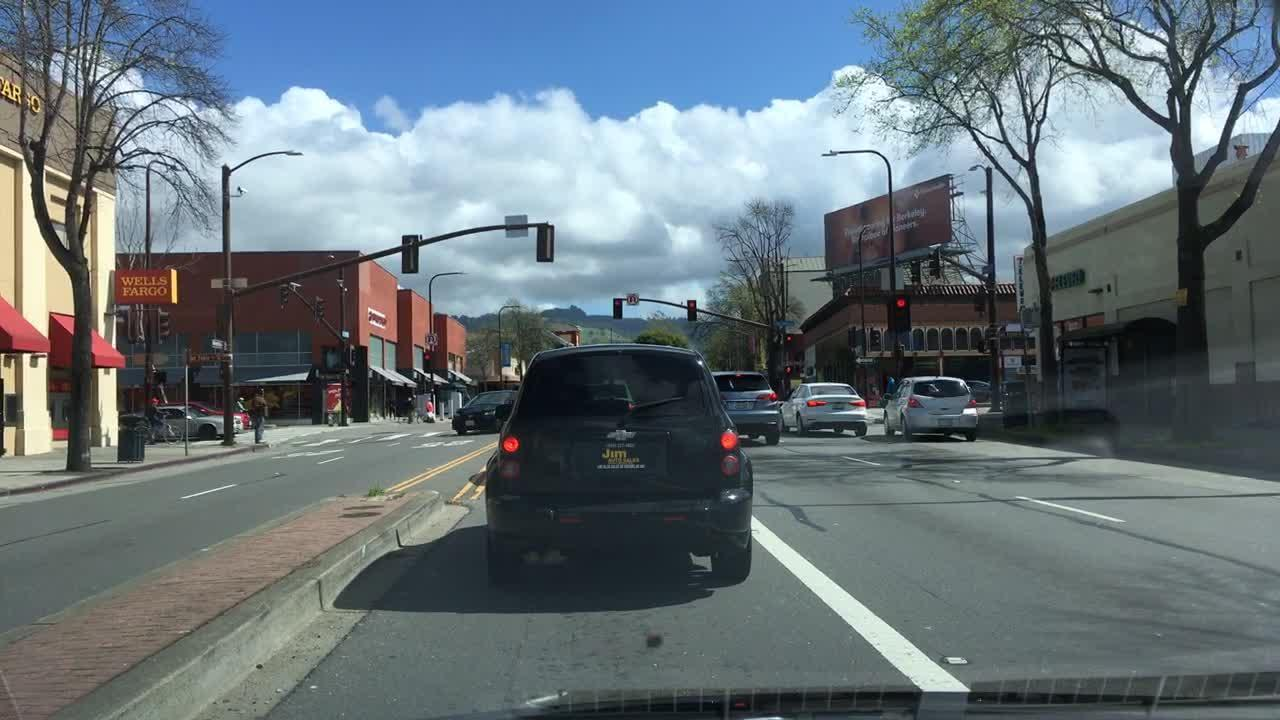chevrolet: (592, 418, 645, 446)
